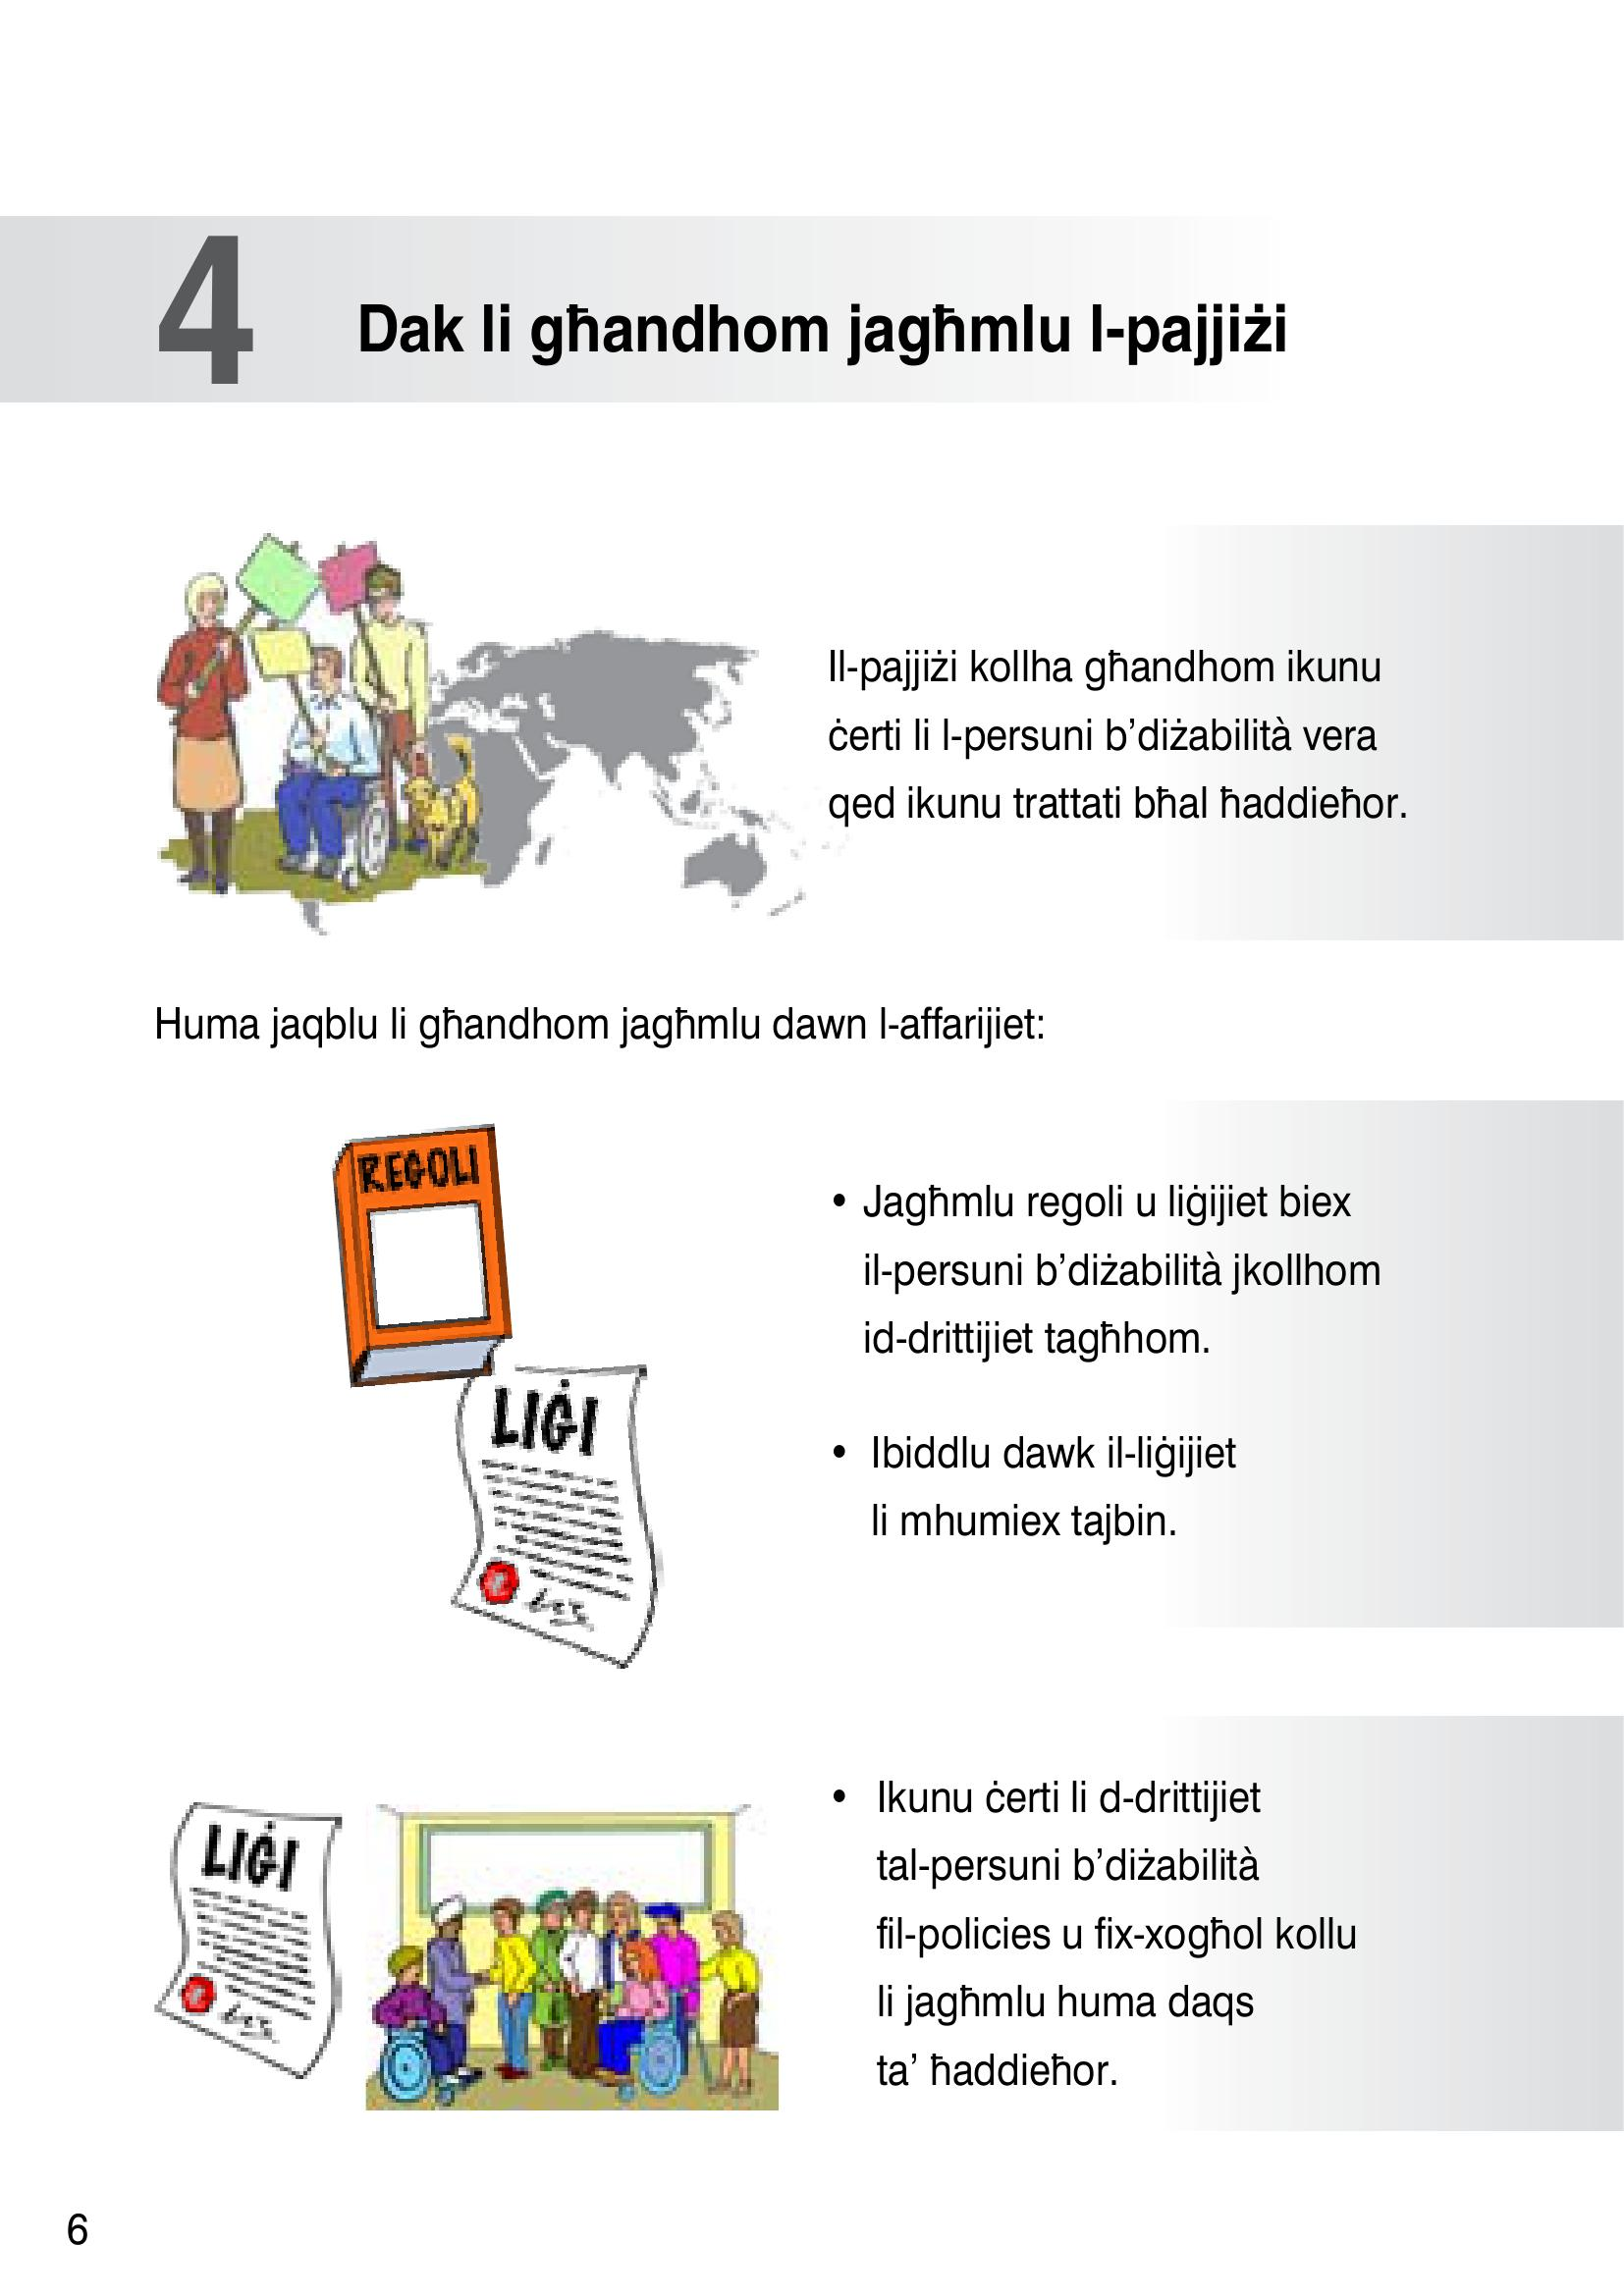text: (798, 1168, 1367, 2141), (128, 216, 1309, 393), (817, 625, 1411, 836), (134, 977, 1069, 1075)
